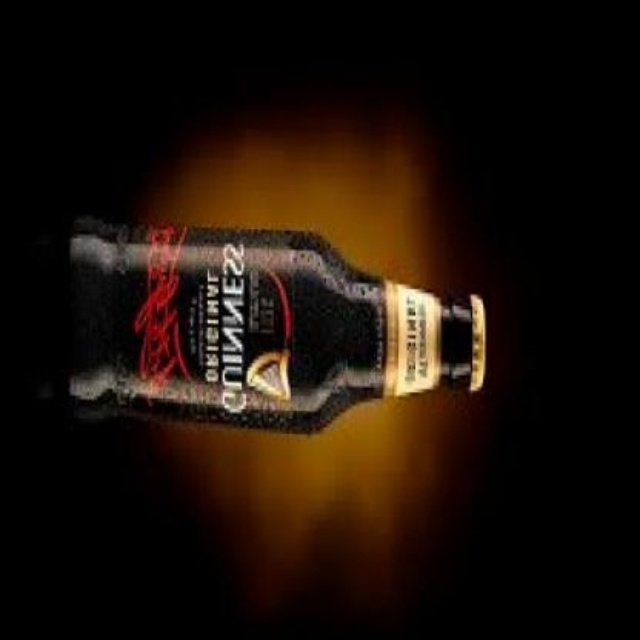trash: (69, 218, 485, 431)
